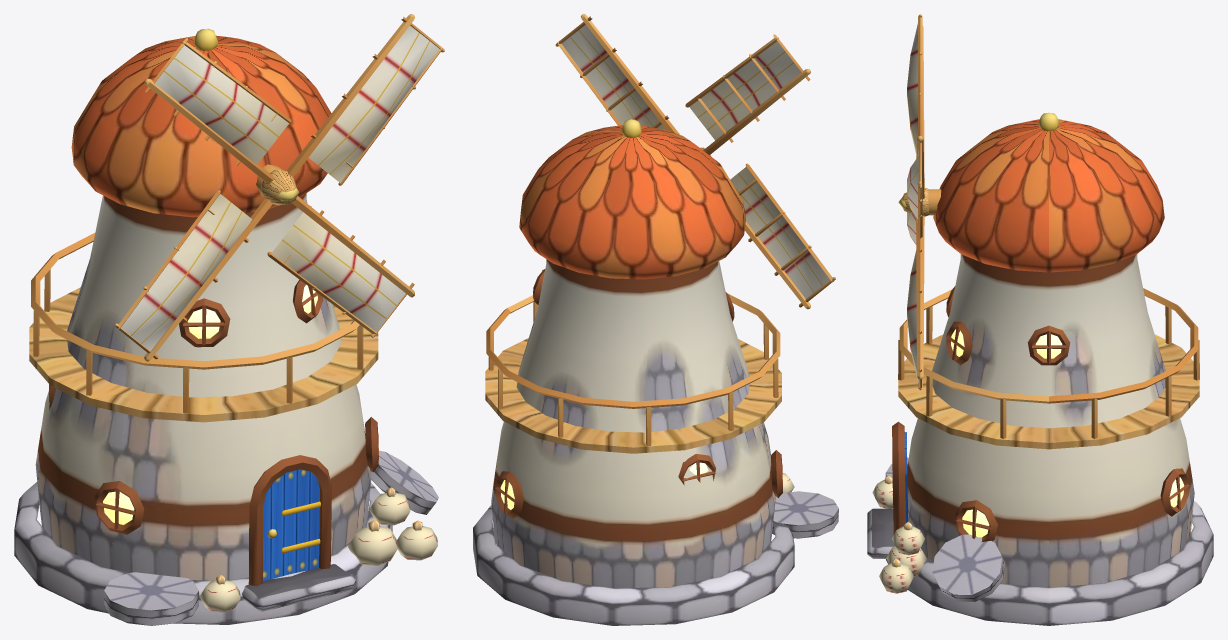
The model's file is mill.glb.
3 views of the same model, side by side, from view 1: azimuth 30°, elevation 25°; view 2: azimuth 150°, elevation 25°; view 3: azimuth 270°, elevation 25° (orthographic). The views are drawn at different scales.
Parts seen in each view (by area): view 1: mill, Sails; view 2: mill, Sails; view 3: mill, Sails.
Part boxes in pixels (x1=…): mill: x1=14, y1=28, x2=438, y2=625; Sails: x1=115, y1=14, x2=444, y2=361; mill: x1=473, y1=119, x2=838, y2=625; Sails: x1=555, y1=14, x2=835, y2=309; mill: x1=867, y1=112, x2=1213, y2=625; Sails: x1=898, y1=14, x2=929, y2=390.
Bounding box in the file's own units: 6.99 × 11.14 × 6.94.
Materials: 4 (4 with a texture image).
